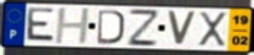D: (96, 8, 126, 46)
E: (23, 6, 56, 44)
H: (54, 7, 92, 46)
V: (166, 10, 198, 48)
X: (198, 11, 228, 48)
Z: (127, 7, 160, 47)
